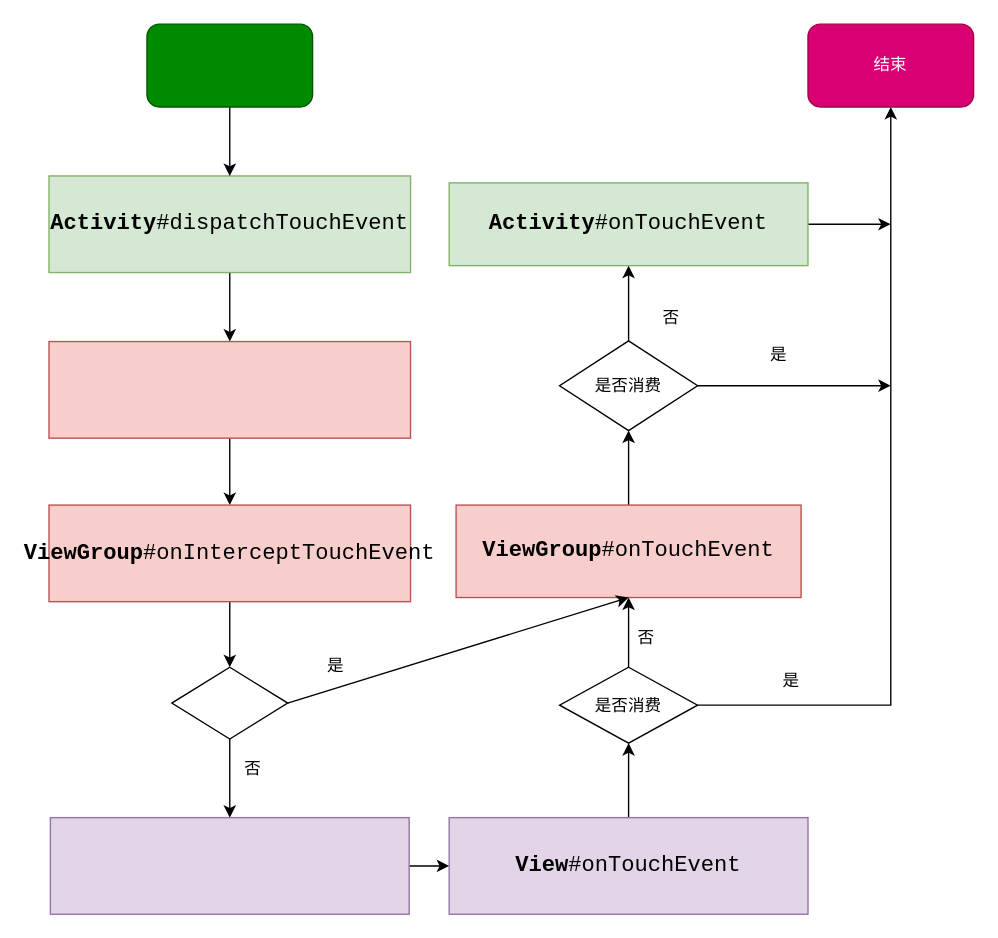
Some shapes in this 998 by 938 pixel diagram are drawn without their labels. Here are the shapes that lost their labels. From the top down, the box of each, then its label:
(146, 23, 313, 107): 开始
(48, 340, 411, 438): ViewGroup #dispatchTouchEvent
(170, 666, 288, 739): 是否拦截
(49, 816, 409, 914): View #dispatchTouchEvent
